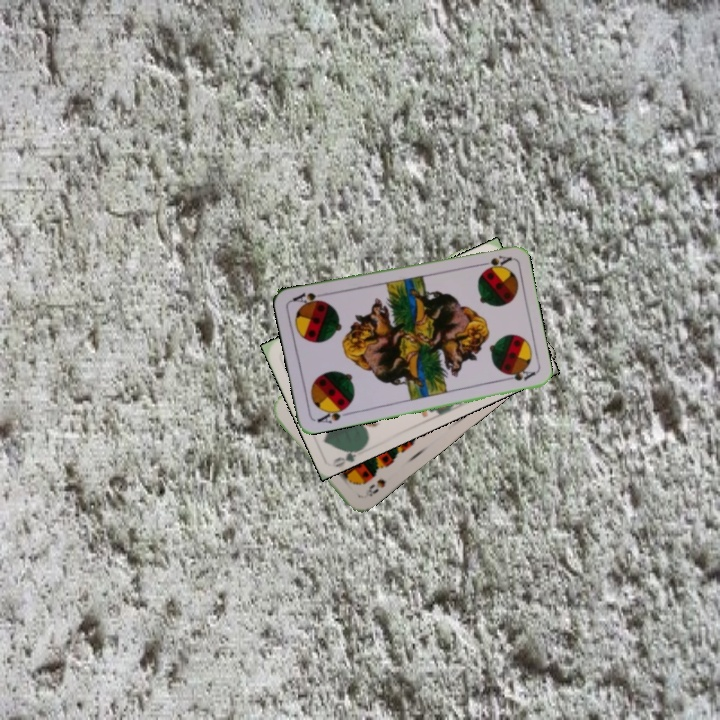GO: (329, 442, 367, 468)
S8: (359, 475, 388, 501)
SA: (313, 402, 351, 426), (473, 251, 514, 271)
